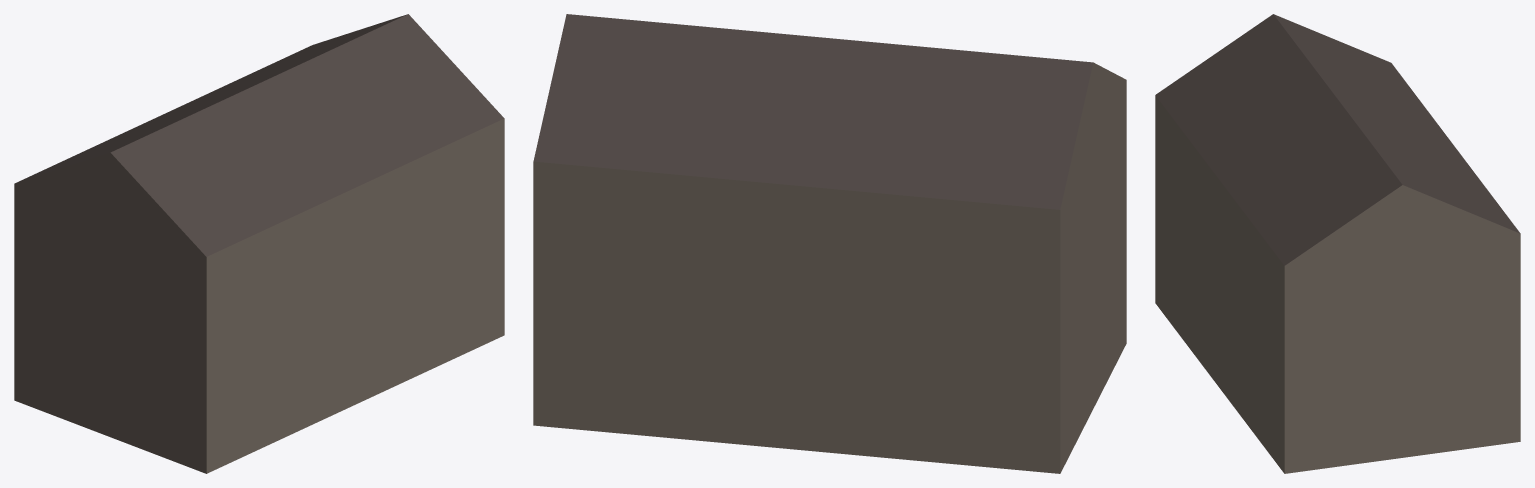
The picture shows the model from 3 angles, left to right: view 1: azimuth 30°, elevation 25°; view 2: azimuth 150°, elevation 25°; view 3: azimuth 270°, elevation 25°; orthographic projection. The views are drawn at different scales.
Parts seen in each view (by area): view 1: HP-w776801010; view 2: HP-w776801010; view 3: HP-w776801010.
Boxes of the visible parts, x1,y1,x2,y2 form: HP-w776801010: (14, 14, 504, 473); HP-w776801010: (533, 14, 1126, 473); HP-w776801010: (1155, 14, 1520, 473).
Size of the model in its own units: 12.57 by 7.87 by 9.56.
